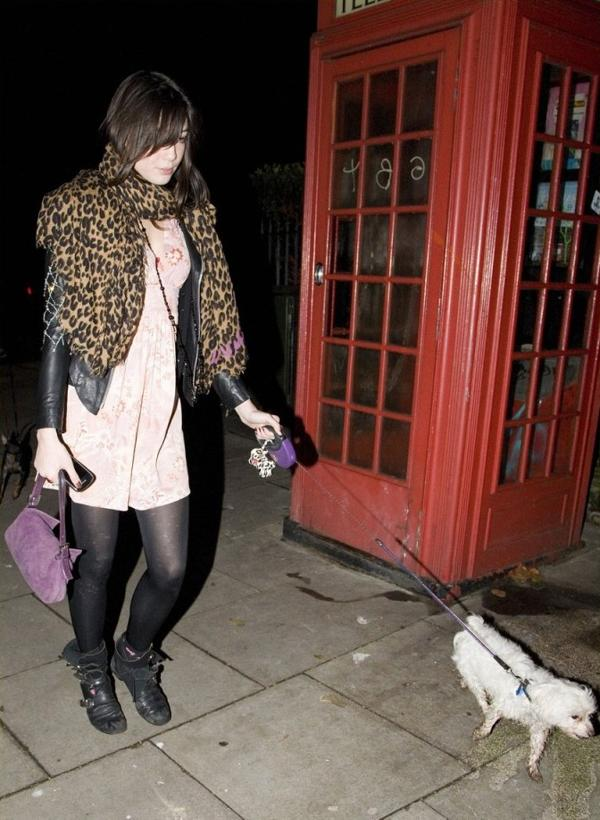person: (34, 69, 283, 735)
